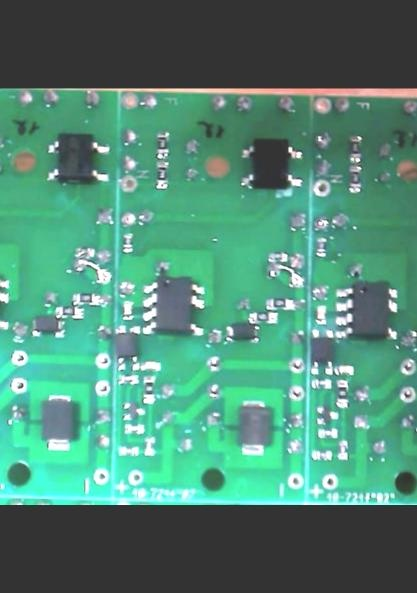chip-capacitor: (121, 300, 134, 321), (333, 363, 354, 376), (314, 304, 326, 325), (139, 361, 161, 371)
chip-resistor: (71, 291, 103, 306), (153, 160, 168, 191), (154, 130, 170, 159), (347, 164, 362, 194), (247, 310, 279, 324), (141, 375, 156, 404), (335, 379, 350, 408), (54, 305, 83, 319), (265, 296, 294, 310), (348, 134, 362, 163), (120, 232, 133, 255), (310, 449, 332, 462), (116, 373, 139, 385), (266, 250, 289, 262), (336, 439, 349, 460), (316, 427, 338, 439), (310, 378, 332, 390), (314, 236, 326, 258), (142, 436, 155, 456), (73, 246, 95, 257), (117, 446, 139, 457), (123, 423, 145, 434)
diode: (41, 393, 78, 452), (236, 400, 273, 456), (30, 314, 67, 338), (224, 323, 261, 343)
ic: (141, 274, 206, 337), (334, 279, 399, 341), (44, 131, 111, 186), (239, 137, 305, 192), (113, 325, 140, 372), (308, 328, 333, 376)
transistor: (314, 404, 339, 425), (121, 401, 146, 421)
